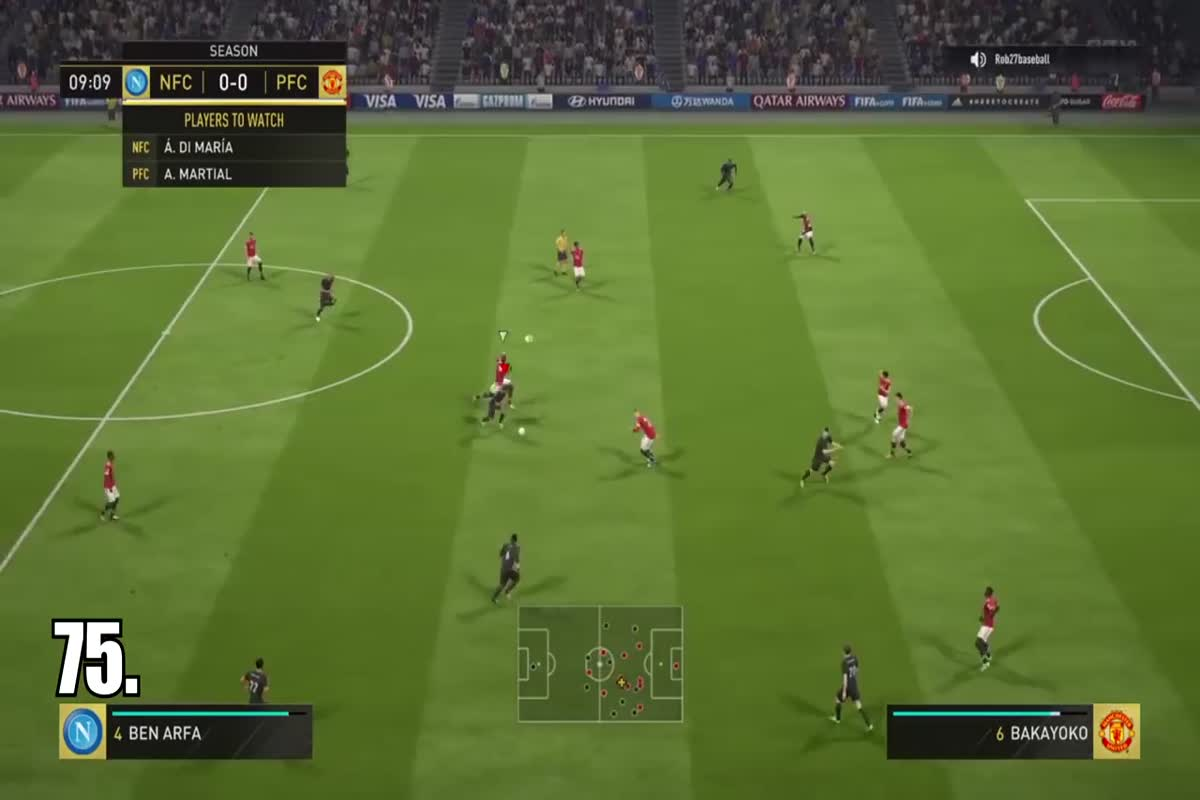ball: (509, 409, 547, 445)
